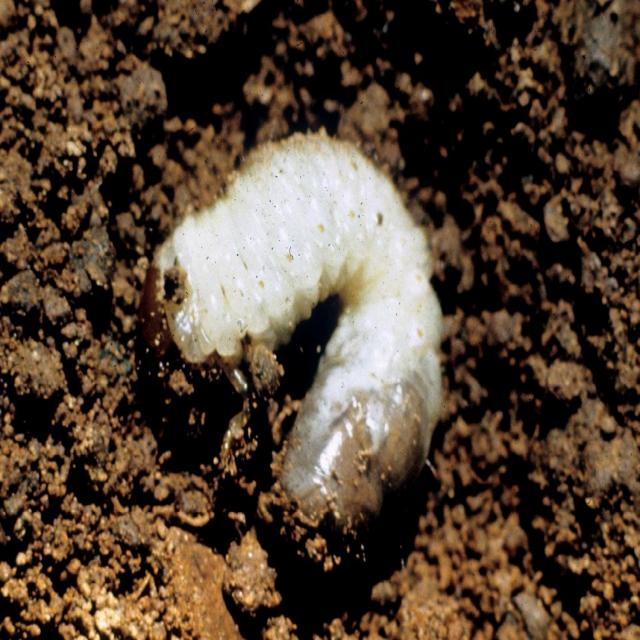Grub-Adult-: (133, 98, 466, 559)
